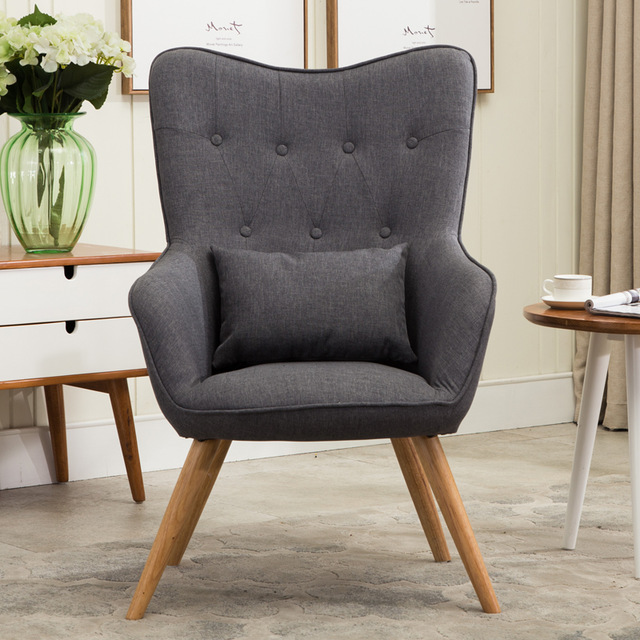chairs: (117, 38, 518, 620)
